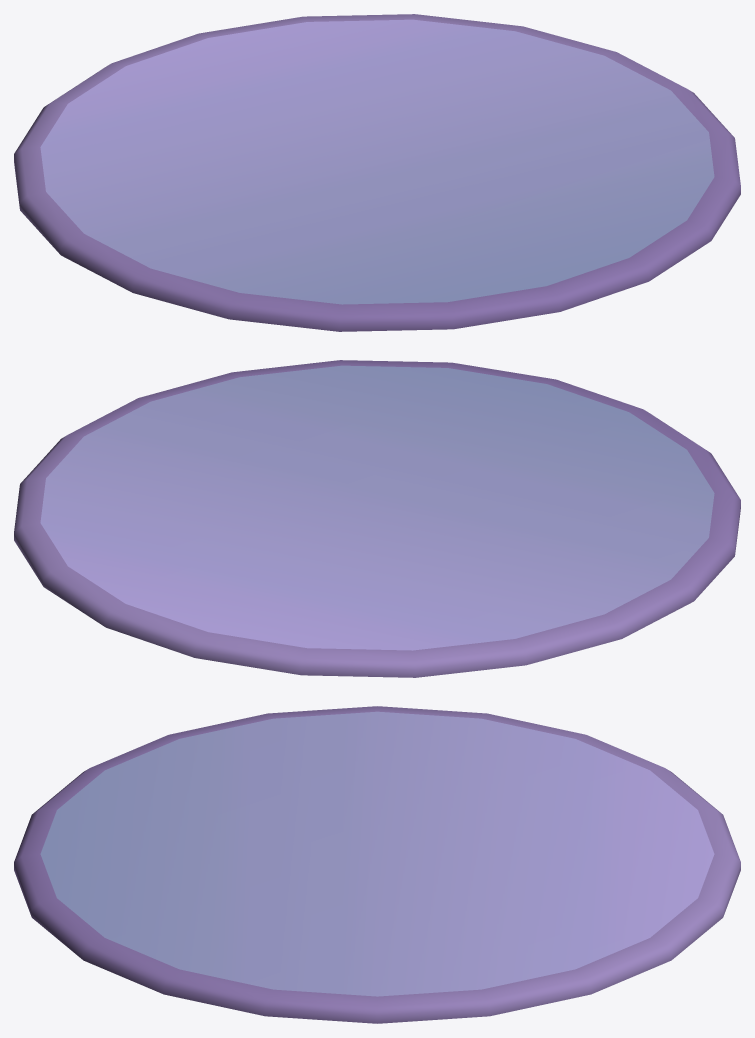
The model's file is carpet2.fbx.
3 views of the same model, one above another, from view 1: azimuth 30°, elevation 25°; view 2: azimuth 150°, elevation 25°; view 3: azimuth 270°, elevation 25° (orthographic).
Parts seen in each view (by area): view 1: carpet2; view 2: carpet2; view 3: carpet2.
Part boxes in pixels (x1,y1,x2,y2): carpet2: (14,14,740,331); carpet2: (14,360,740,677); carpet2: (14,706,740,1023).
Bounding box in the file's own units: 8.37 × 0.2045 × 8.37.
